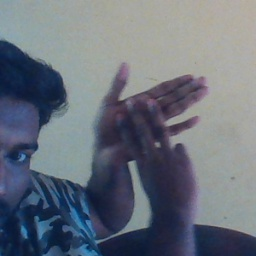M: (88, 61, 210, 205)
